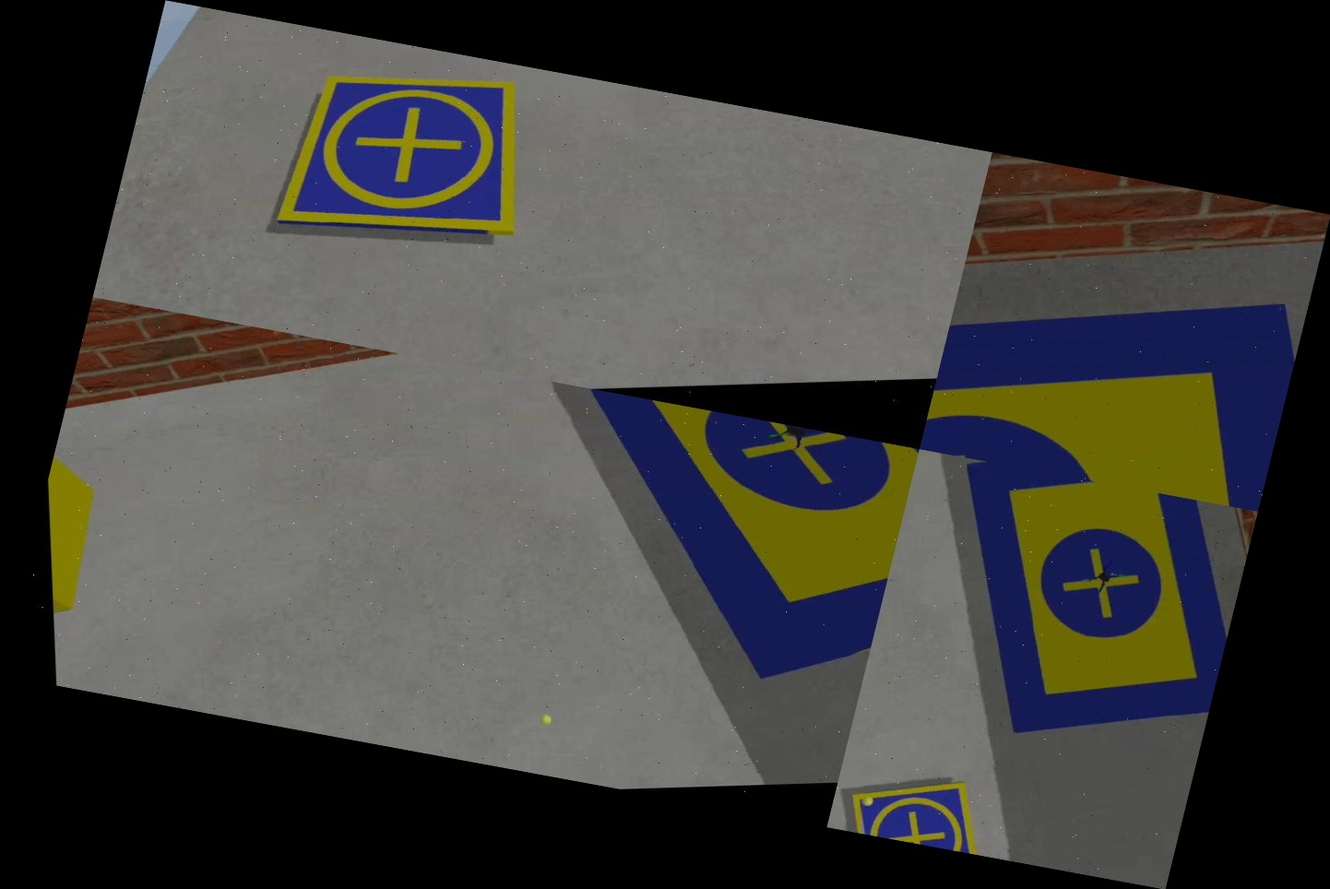large_base: (475, 380, 920, 735), (897, 456, 1257, 774), (920, 235, 1310, 511)
small_base: (227, 22, 568, 295), (837, 758, 1004, 856)
